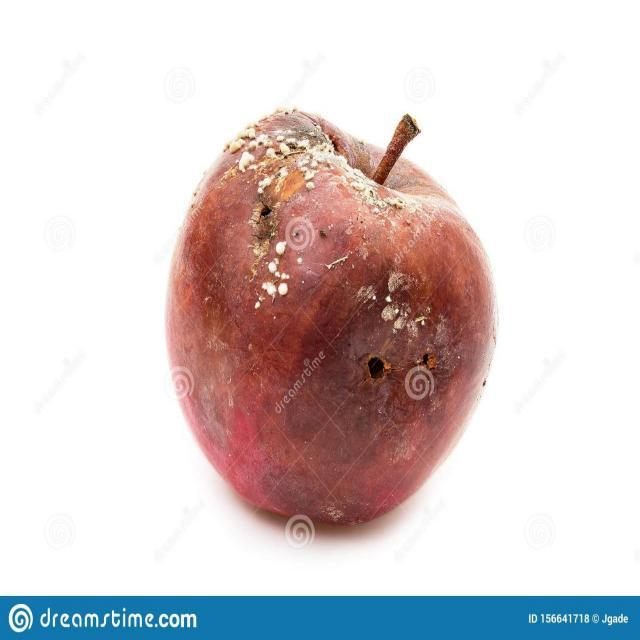Rotten: (163, 110, 477, 515)
